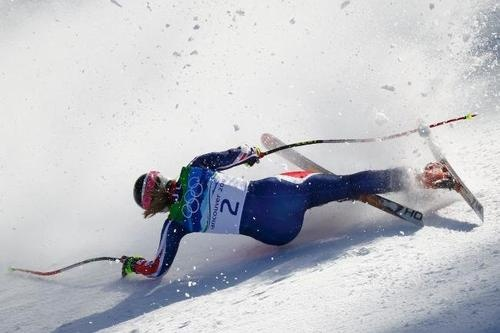falling: (107, 119, 484, 288)
